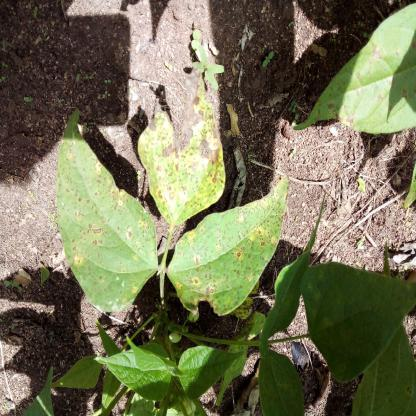Beans_Rust: (54, 114, 157, 308), (169, 178, 287, 316), (295, 2, 416, 132), (137, 68, 228, 225)
